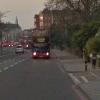Bus: (26, 31, 55, 68)
